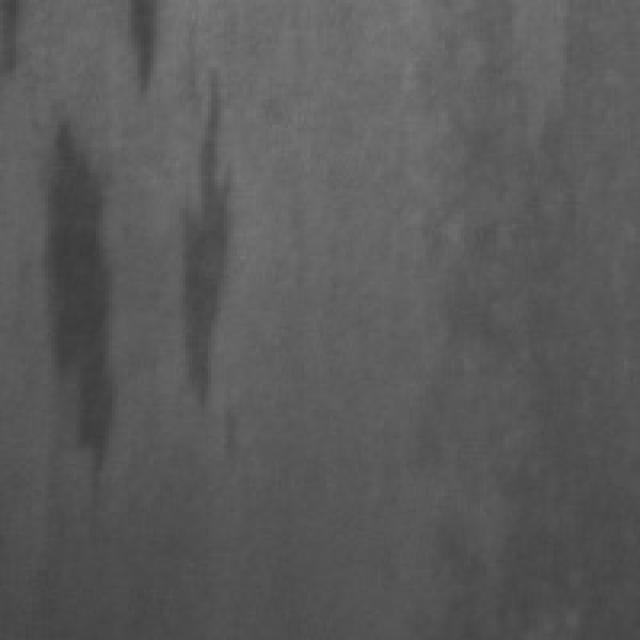inclusion: (35, 106, 128, 480), (179, 61, 256, 416), (118, 0, 173, 93)
